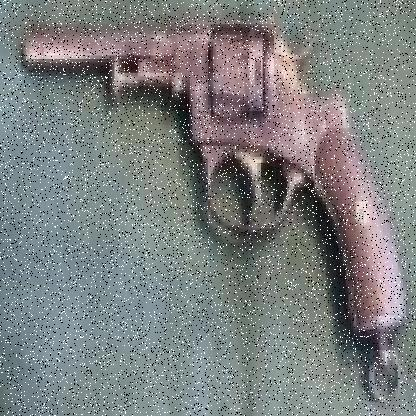pistol: (18, 10, 403, 336)
